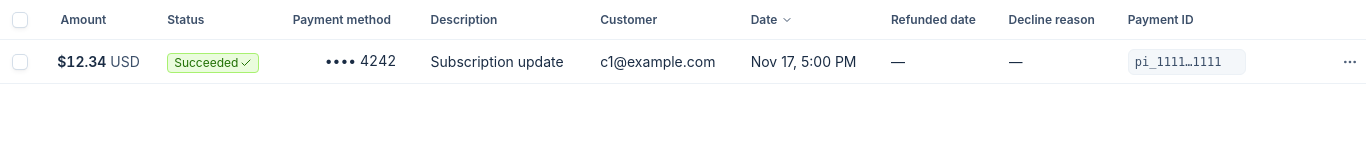
Test case: PaymentsTable › hovering the date shows relative tooltip
The image size is (1366, 160).
Hover over the text "Nov 17, 5:00 PM" at (804, 62), box [751,53,856,70]
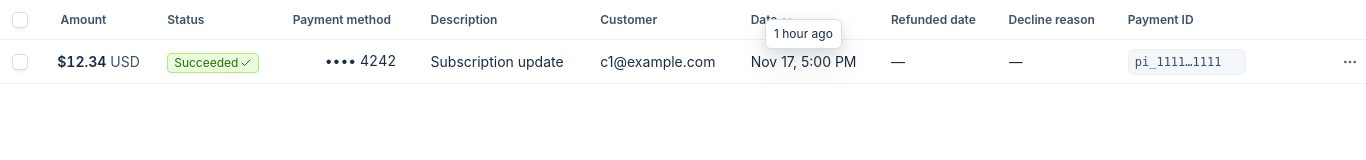
Check: the tooltip "1 hour ago" is shown, box [765,19,842,49]
